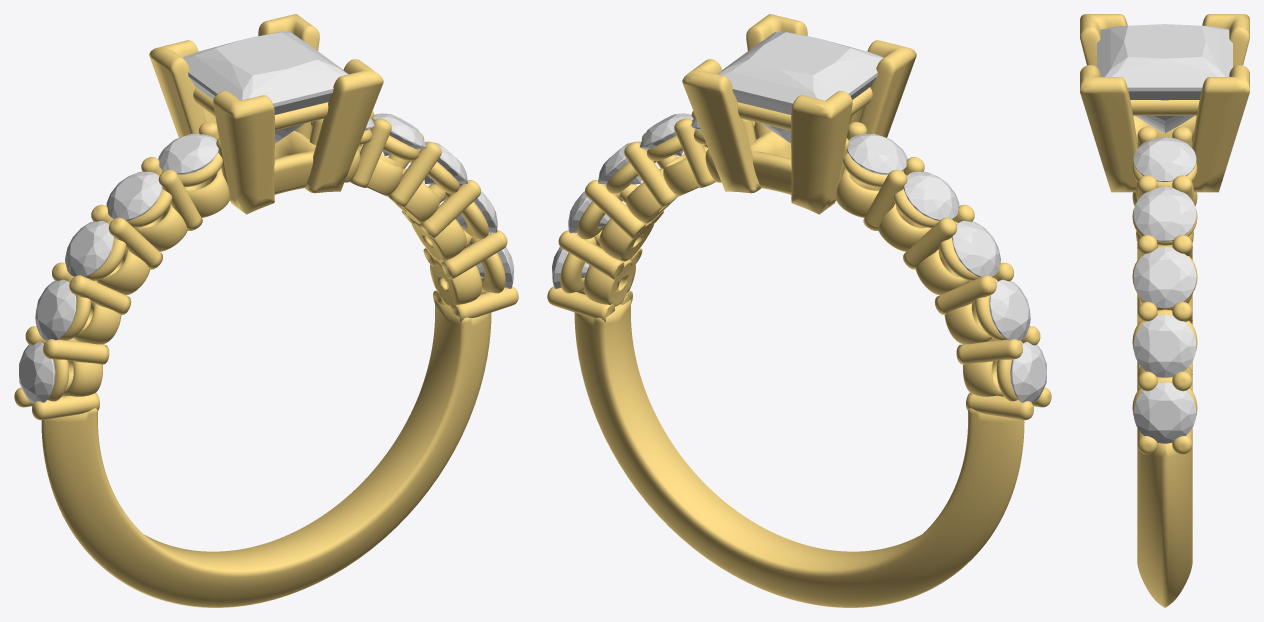
Rendered from diamond-princess-yellowgold-protectededges4prongs-knifeedge-11stone.glb.
3 renders of one model, left to right at view 1: azimuth 30°, elevation 25°; view 2: azimuth 150°, elevation 25°; view 3: azimuth 270°, elevation 25°, orthographic.
Parts seen in each view (by area): view 1: metal, stone, side.004, side.005, side.001, side.006, side, side.008, side.009; view 2: metal, stone, side.004, side.005, side.001, side.006, side, side.008, side.009; view 3: metal, stone, side.003, side.009, side.002, side.008, side.007.
Boxes of the visible parts, left/top/right/bottom form: metal: left=14, top=14, right=518, bottom=607; stone: left=182, top=31, right=348, bottom=143; side.004: left=65, top=221, right=113, bottom=277; side.005: left=106, top=171, right=162, bottom=220; side.001: left=35, top=279, right=76, bottom=340; side.006: left=158, top=133, right=218, bottom=174; side: left=19, top=341, right=55, bottom=403; side.008: left=372, top=113, right=426, bottom=155; side.009: left=424, top=141, right=467, bottom=184; metal: left=547, top=14, right=1051, bottom=607; stone: left=717, top=31, right=883, bottom=143; side.004: left=952, top=221, right=1000, bottom=277; side.005: left=903, top=171, right=959, bottom=220; side.001: left=989, top=279, right=1030, bottom=340; side.006: left=847, top=133, right=907, bottom=174; side: left=1010, top=341, right=1046, bottom=403; side.008: left=639, top=113, right=693, bottom=155; side.009: left=598, top=141, right=641, bottom=184; metal: left=1080, top=14, right=1249, bottom=607; stone: left=1097, top=24, right=1232, bottom=132; side.003: left=1133, top=315, right=1196, bottom=377; side.009: left=1133, top=247, right=1196, bottom=307; side.002: left=1133, top=382, right=1196, bottom=443; side.008: left=1133, top=186, right=1196, bottom=241; side.007: left=1133, top=137, right=1196, bottom=181.
Bounding box in the file's own units: 22 × 23.85 × 6.77.
